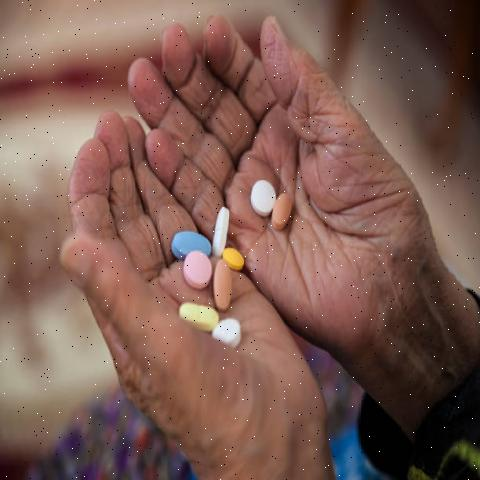hands: (243, 159, 277, 222), (209, 202, 231, 258), (215, 314, 243, 355)
